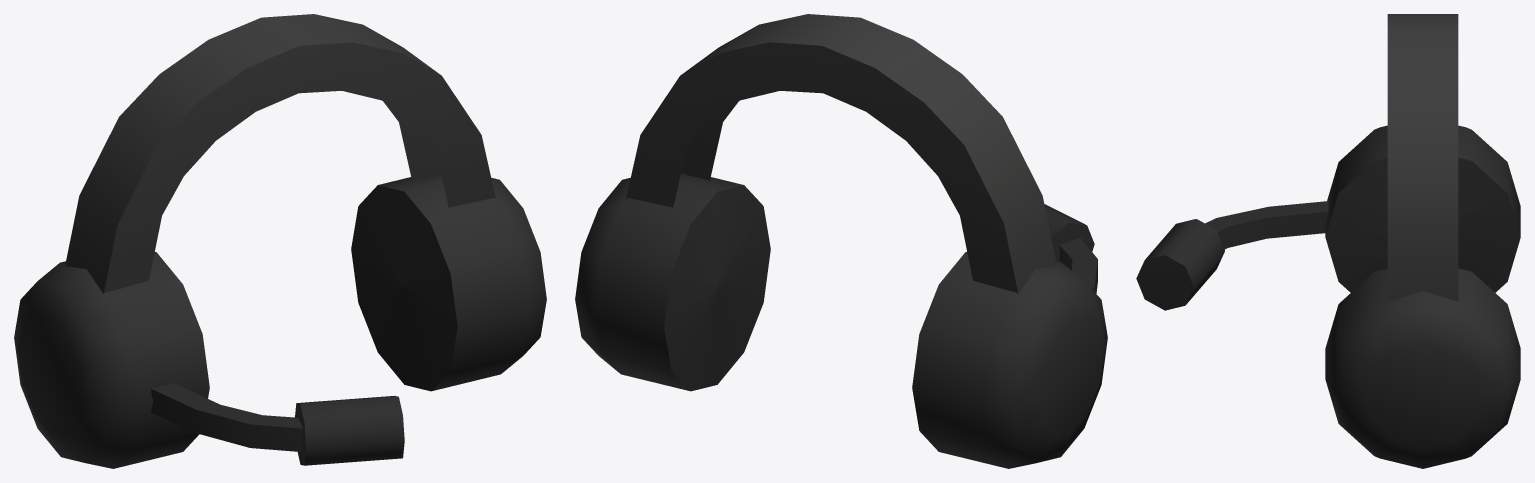
Rendered from Capsule_Head_Props_Headphone_01.fbx.
The picture shows the model from 3 angles, left to right: view 1: azimuth 30°, elevation 25°; view 2: azimuth 150°, elevation 25°; view 3: azimuth 270°, elevation 25°; orthographic projection. The views are drawn at different scales.
Parts seen in each view (by area): view 1: Capsule_Head_Props_Headphone_01; view 2: Capsule_Head_Props_Headphone_01; view 3: Capsule_Head_Props_Headphone_01.
Boxes of the visible parts, x1,y1,x2,y2 form: Capsule_Head_Props_Headphone_01: (14,14,546,468); Capsule_Head_Props_Headphone_01: (575,14,1107,468); Capsule_Head_Props_Headphone_01: (1136,14,1520,468).
Size of the model in its own units: 143 by 114 by 113.
